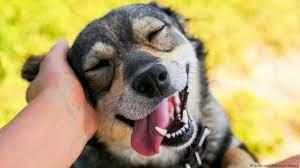Dog: (77, 2, 209, 157)
